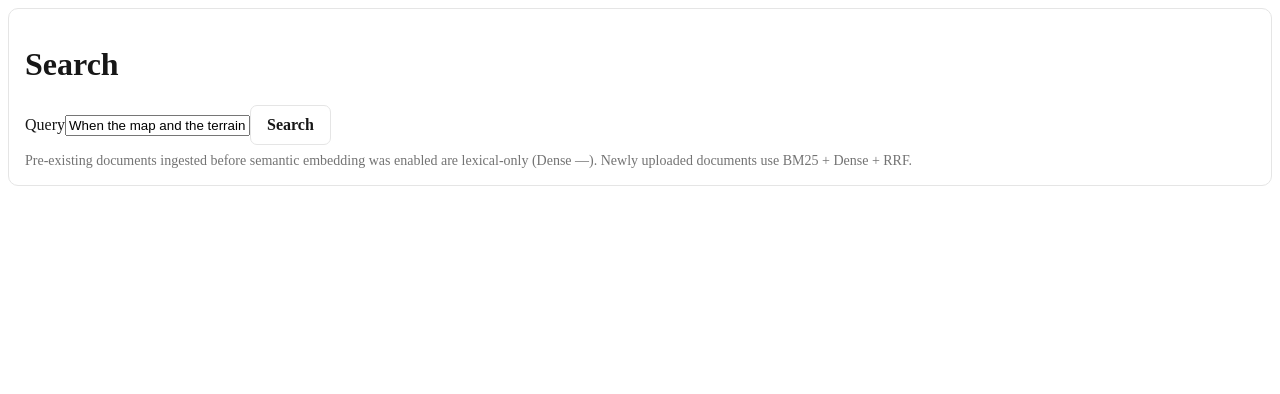
Test: SearchPage error states › retries once on a 401 after silent re-auth
What coordinates should you click on to do the following:
click the button "Search"
I would click on:
 (290, 125)
Its box is [250,105,331,145].
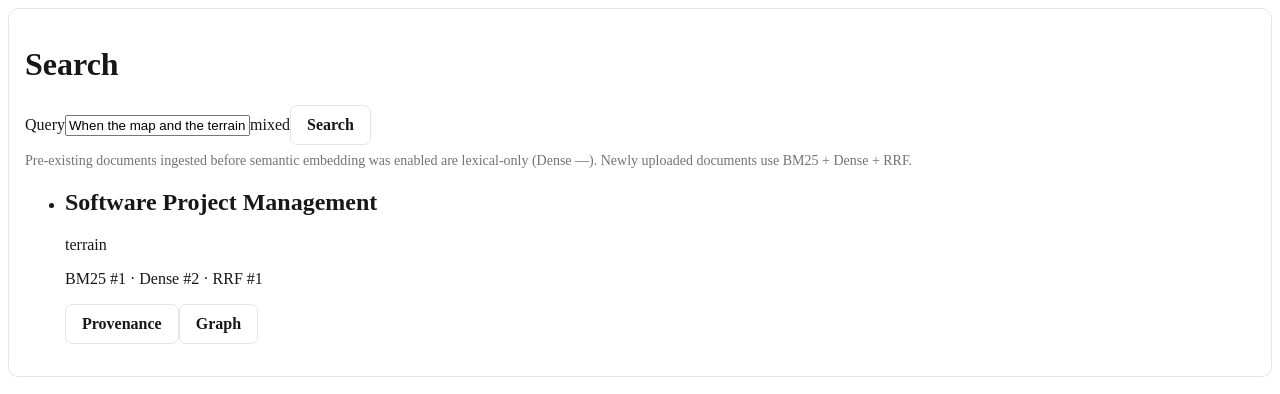
Check: the heading "Software Project Management" is shown, box [65,189,377,215]
